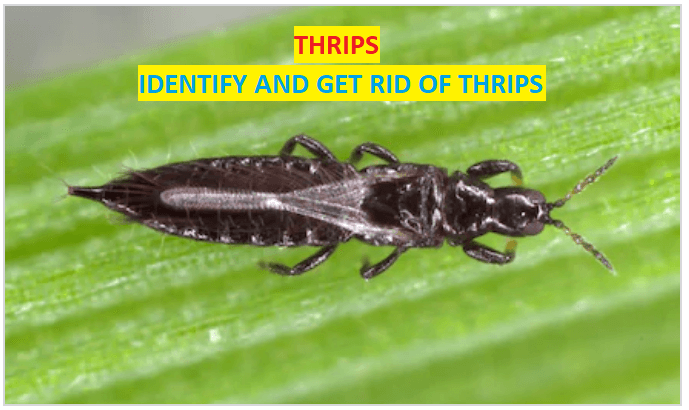Thrips: (55, 109, 644, 319)
